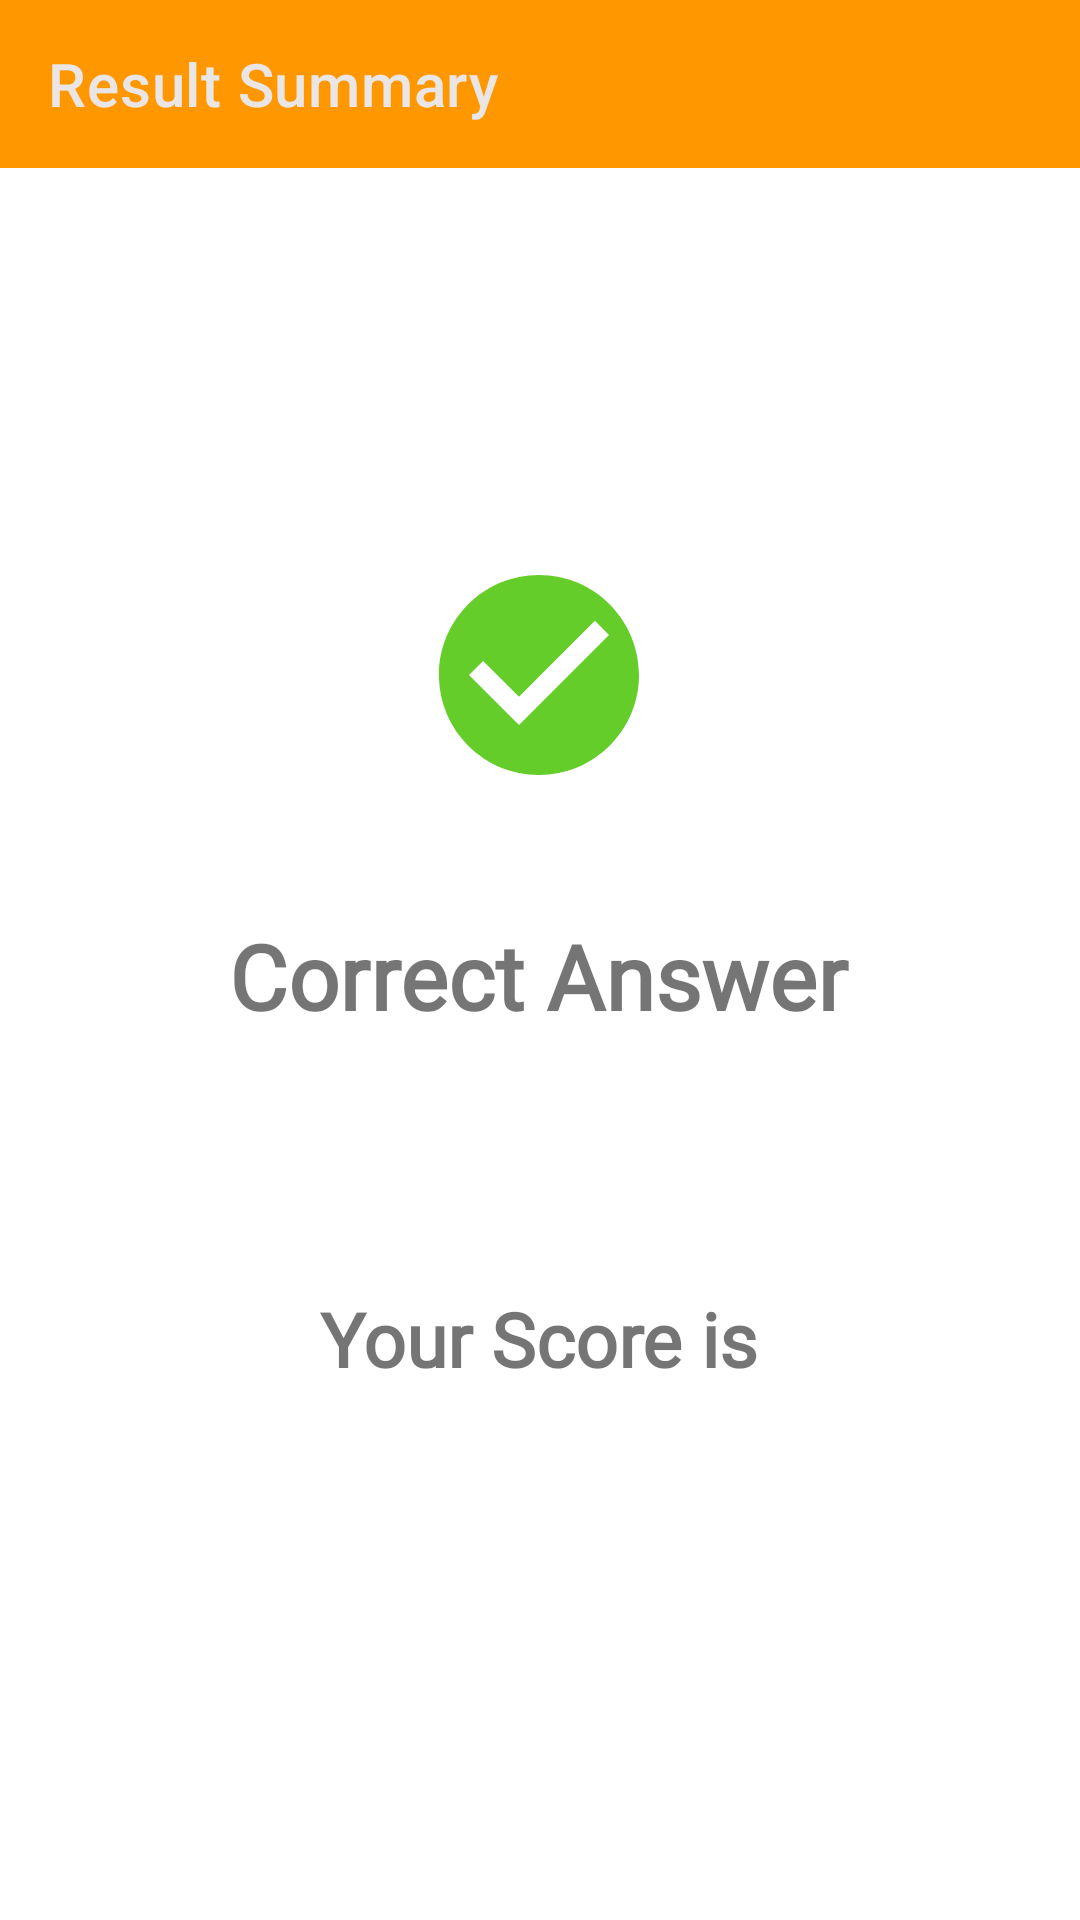

Named icons in this screenshot (1080 × 1920) and their centers, point (x, y):
accepted: point (539, 675)
